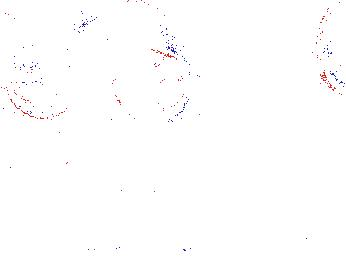moon jellyfish: (34, 1, 174, 109), (111, 39, 191, 126), (6, 66, 77, 120), (314, 1, 346, 96)
